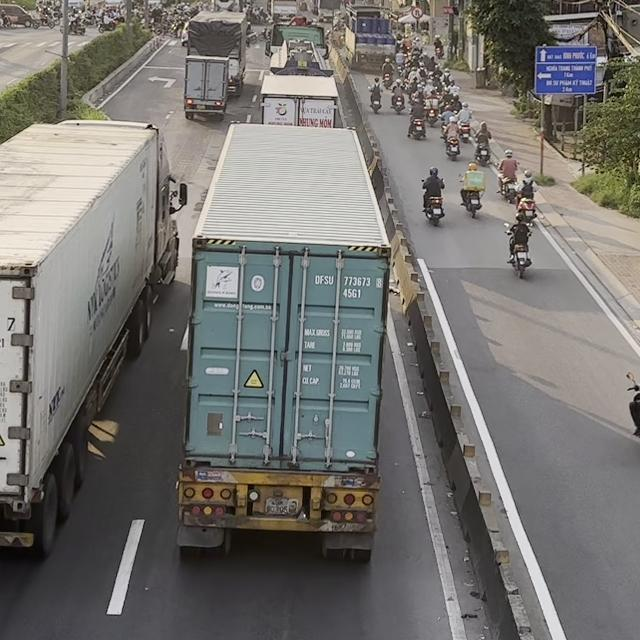motorcycle: (503, 222, 532, 278), (457, 172, 484, 218), (420, 178, 445, 227), (494, 162, 522, 203), (515, 195, 537, 227), (453, 110, 474, 143), (407, 111, 427, 140), (473, 135, 491, 166), (442, 132, 460, 160), (390, 87, 405, 114), (367, 86, 381, 114), (424, 100, 439, 126), (382, 73, 392, 89)
truck: (175, 120, 391, 562), (0, 118, 187, 557), (187, 9, 249, 100), (258, 74, 340, 128), (264, 23, 334, 78), (344, 4, 398, 69), (182, 53, 233, 121)
